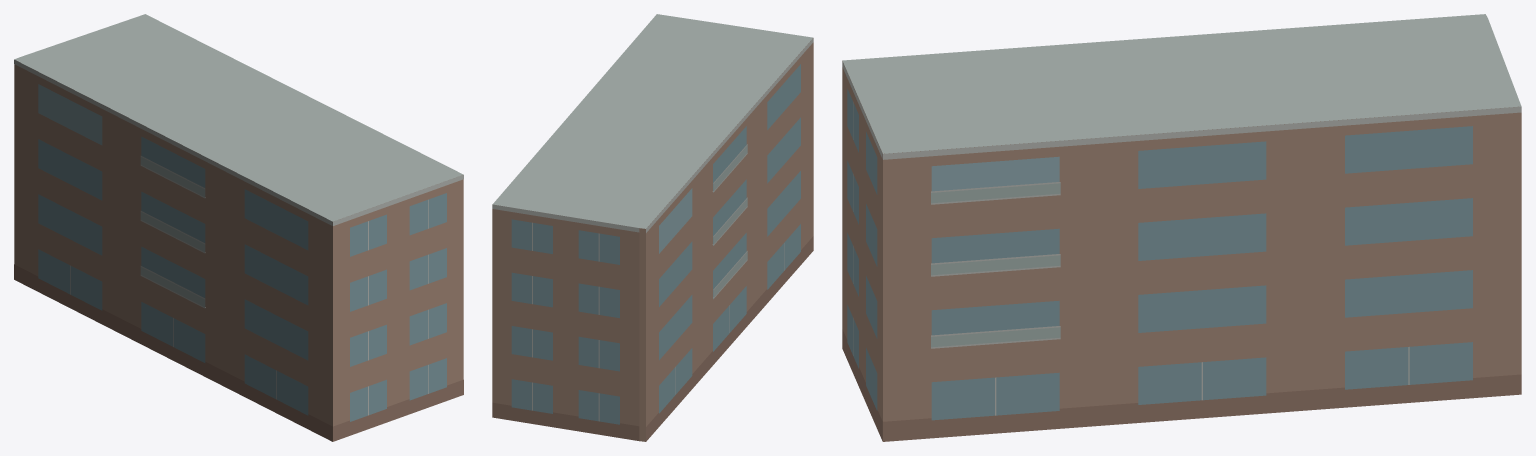
Rendered from survey-upis-32561434.glb.
The picture shows the model from 3 angles, left to right: view 1: azimuth 30°, elevation 25°; view 2: azimuth 150°, elevation 25°; view 3: azimuth 270°, elevation 25°; orthographic projection. The views are drawn at different scales.
Parts seen in each view (by area): view 1: survey-upis-32561434.tmp; view 2: survey-upis-32561434.tmp; view 3: survey-upis-32561434.tmp.
Boxes of the visible parts, x1,y1,x2,y2 form: survey-upis-32561434.tmp: [14, 14, 463, 441]; survey-upis-32561434.tmp: [492, 14, 813, 441]; survey-upis-32561434.tmp: [842, 14, 1521, 441].
Bounding box in the file's own units: 12.19 × 11.7 × 25.02.
